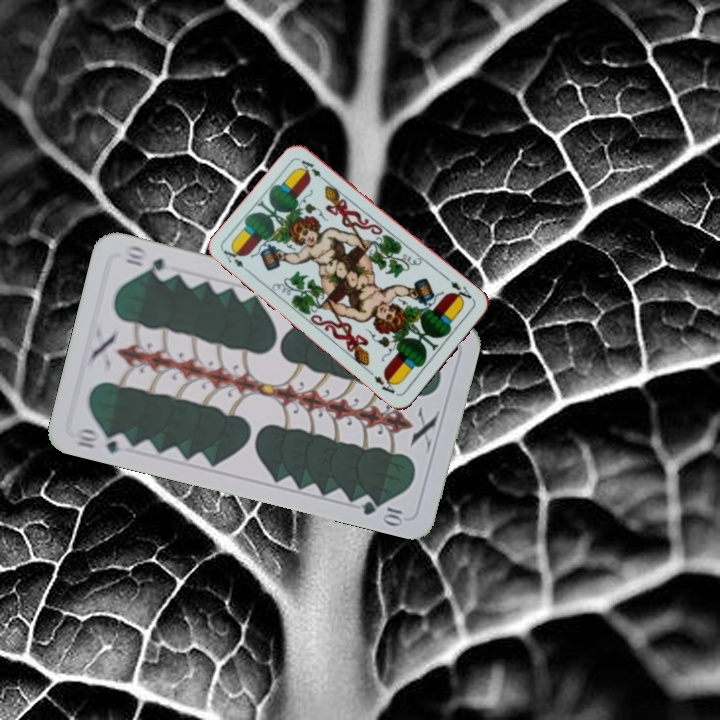EA: (219, 243, 254, 276), (443, 273, 477, 305)
G10: (71, 424, 132, 456)
